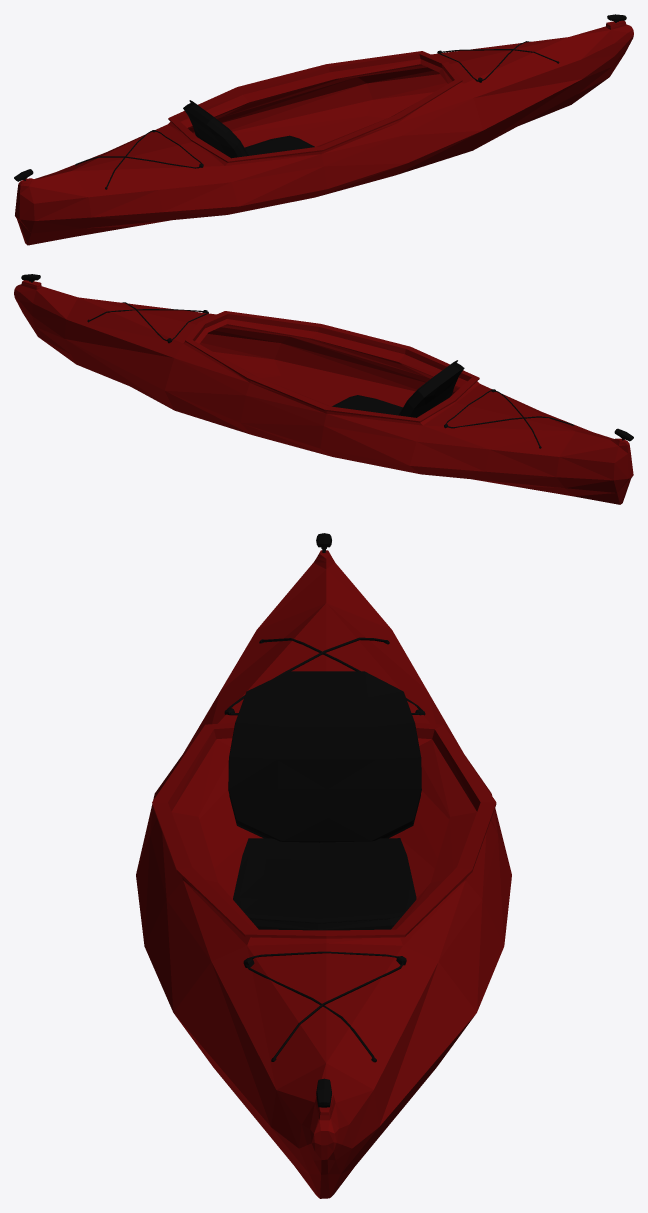
The model's file is kayak_lowpoly.obj.
3 views of the same model, one above another, from view 1: azimuth 30°, elevation 25°; view 2: azimuth 150°, elevation 25°; view 3: azimuth 270°, elevation 25° (orthographic). The views are drawn at different scales.
Parts seen in each view (by area): view 1: pCube6, pCube5, pCube4, pCylinder2, pCylinder1; view 2: pCube6, pCube5, pCube4, pCylinder2, pCylinder1; view 3: pCube6, pCube5, pCube4, pCylinder1.
Boxes of the visible parts, x1,y1,x2,y2 form: pCube6: (15,20,633,245); pCube5: (183,100,248,158); pCube4: (245,135,314,155); pCylinder2: (76,130,202,187); pCylinder1: (438,41,557,81); pCube6: (14,280,633,504); pCube5: (399,360,464,417); pCube4: (332,395,402,415); pCylinder2: (445,390,571,446); pCylinder1: (89,302,208,341); pCube6: (136,550,511,1198); pCube5: (228,671,421,842); pCube4: (233,838,416,930); pCylinder1: (245,951,403,1057).
Bounding box in the file's own units: 278 × 41.36 × 73.5.
